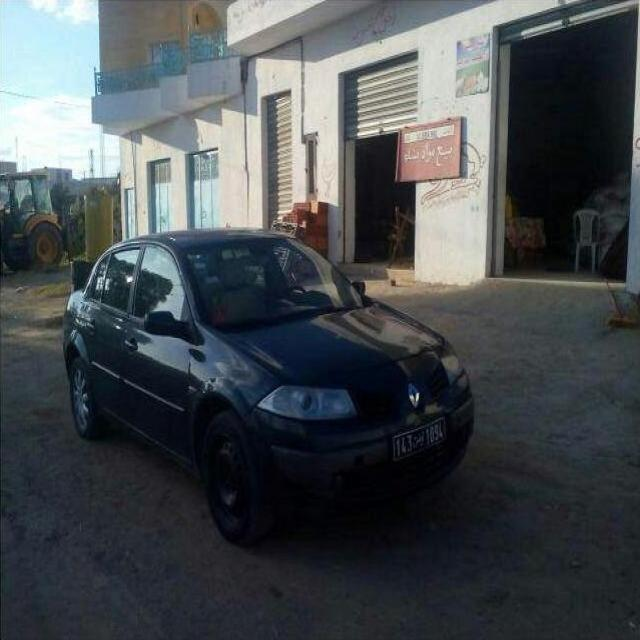licence plate: (392, 419, 446, 458)
